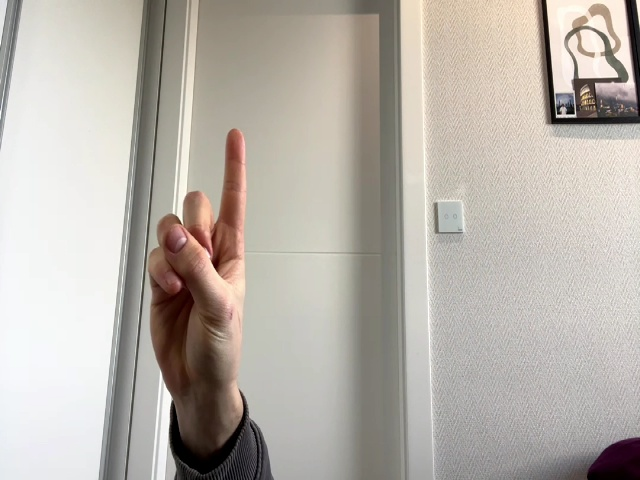Z: (148, 129, 245, 374)
